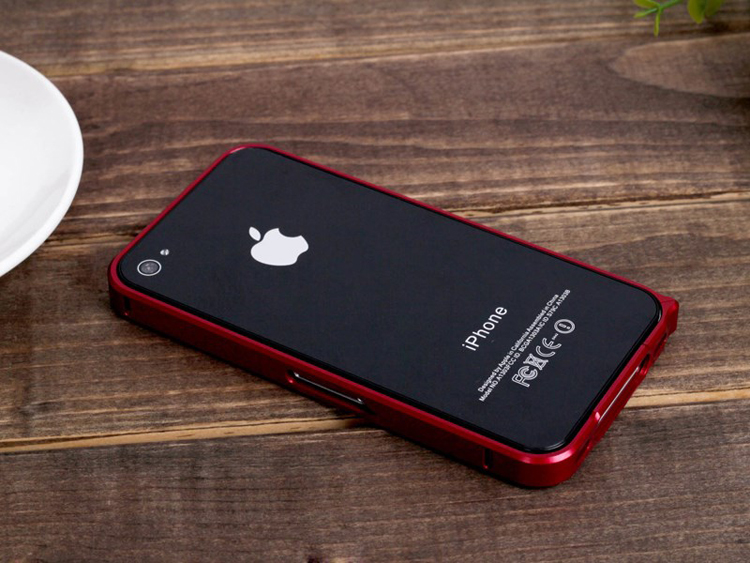apple: (238, 213, 316, 282)
